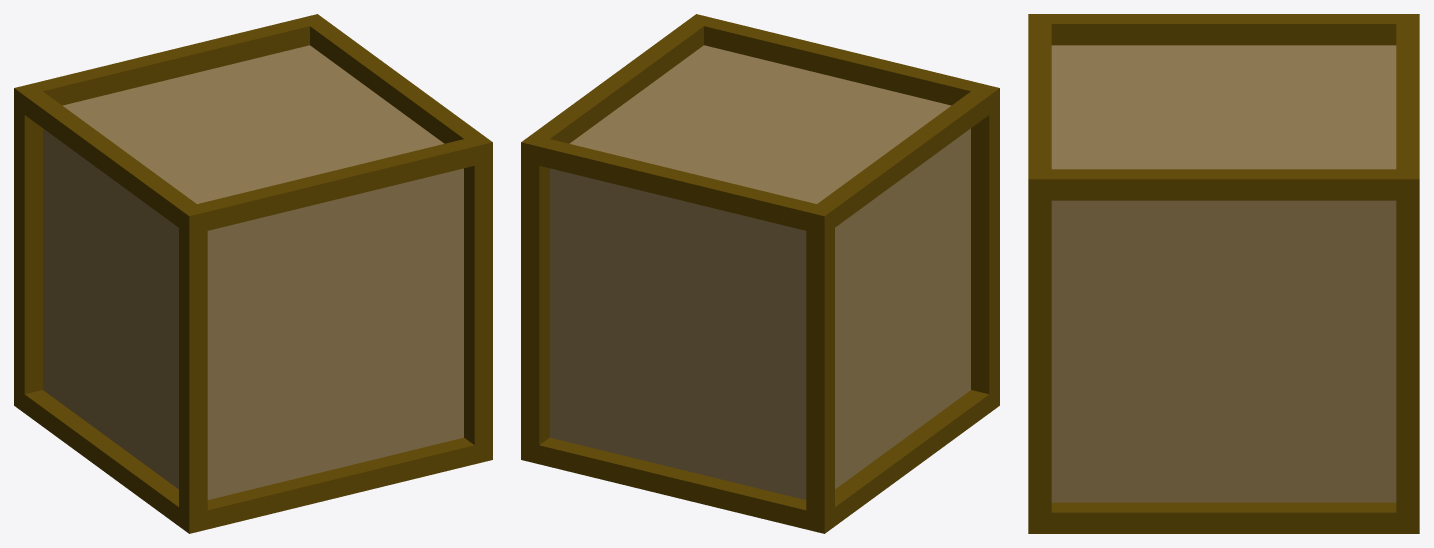
The model's file is crate.glb.
3 views of the same model, side by side, from view 1: azimuth 30°, elevation 25°; view 2: azimuth 150°, elevation 25°; view 3: azimuth 270°, elevation 25° (orthographic). The views are drawn at different scales.
Visible parts, largest first — view 1: Create_08 - Default_0, Create_07 - Default_0; view 2: Create_08 - Default_0, Create_07 - Default_0; view 3: Create_08 - Default_0, Create_07 - Default_0.
Boxes of the visible parts, x1=… form: Create_08 - Default_0: x1=43, y1=45, x2=463, y2=499; Create_07 - Default_0: x1=14, y1=14, x2=492, y2=533; Create_08 - Default_0: x1=550, y1=45, x2=970, y2=499; Create_07 - Default_0: x1=521, y1=14, x2=999, y2=533; Create_08 - Default_0: x1=1051, y1=45, x2=1396, y2=502; Create_07 - Default_0: x1=1028, y1=14, x2=1419, y2=533.
Size of the model in its own units: 0.75 by 0.75 by 0.75.
